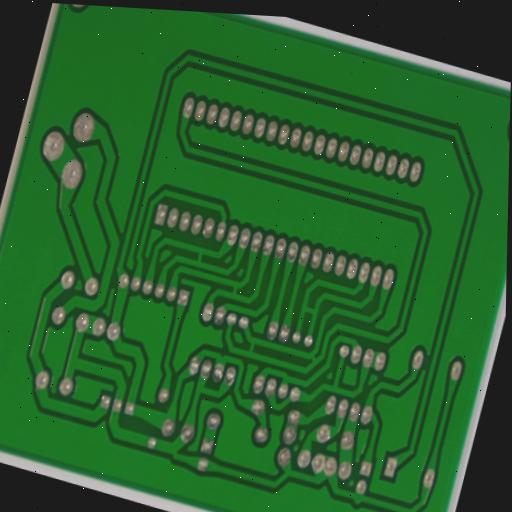short_circuit: (297, 294, 324, 324), (240, 334, 264, 365), (223, 276, 247, 306), (188, 244, 212, 273), (303, 346, 323, 369)
